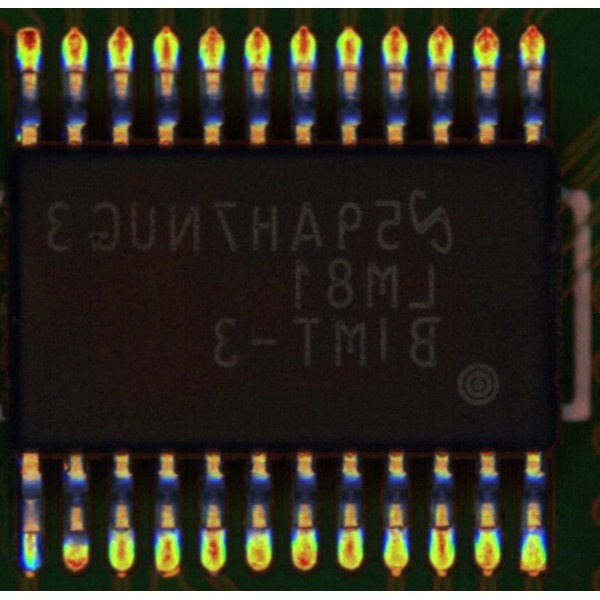Bad_podu: (437, 515, 449, 545), (252, 55, 264, 81), (26, 521, 36, 546)
